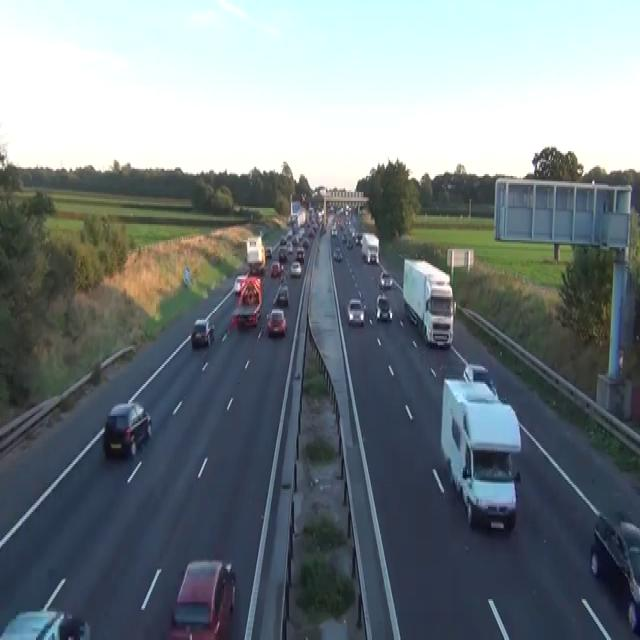Car: (589, 512, 639, 633), (0, 578, 91, 638), (167, 558, 235, 638), (103, 400, 152, 457), (0, 608, 90, 638), (463, 363, 498, 398), (191, 318, 214, 347), (266, 308, 287, 336), (375, 293, 392, 322), (347, 297, 364, 325), (463, 363, 488, 382), (272, 284, 289, 306), (441, 176, 466, 190), (378, 270, 392, 290), (233, 274, 246, 293), (270, 260, 283, 278), (230, 308, 242, 327), (290, 260, 301, 278), (332, 246, 343, 262), (366, 247, 376, 263), (183, 267, 190, 286), (278, 246, 287, 260), (354, 231, 362, 245), (296, 247, 304, 261), (316, 208, 324, 220), (265, 245, 272, 258), (319, 222, 326, 235), (346, 236, 353, 249), (285, 240, 292, 252), (279, 263, 284, 279), (331, 224, 337, 236), (280, 235, 286, 245), (309, 226, 315, 236), (302, 238, 308, 247), (286, 230, 292, 238)
Truck: (440, 366, 521, 532), (402, 256, 454, 348), (230, 276, 262, 327), (245, 233, 266, 274), (361, 233, 379, 263)
